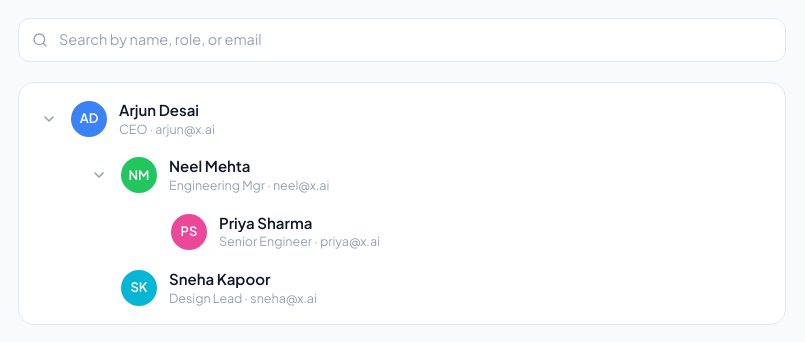
Test case: HierarchyTree › filters on search and keeps the ancestor chain
Type "Priya" into the search field with placeholder "Search by name, role, or email" at (402, 40), box 18,18 -> 786,62
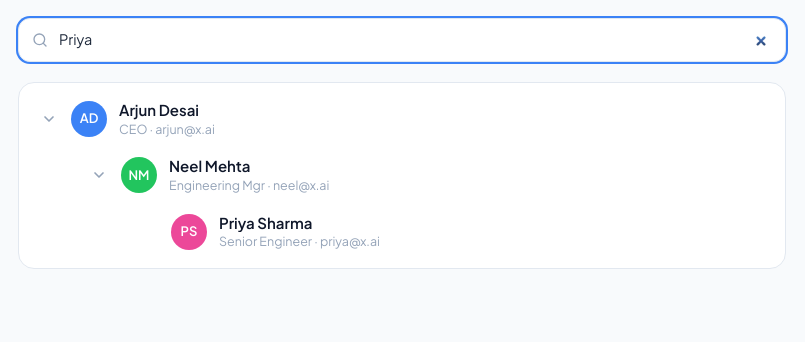
Check: the text "Priya Sharma" is shown, box 219,212 -> 312,232
Check: the text "Sneha Kapoor" is gone
